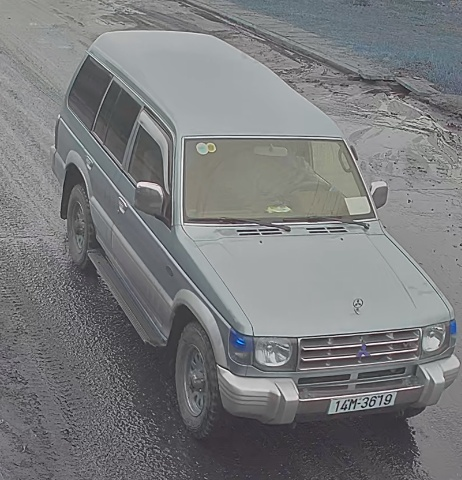vehicle plate: (327, 392, 405, 419)
